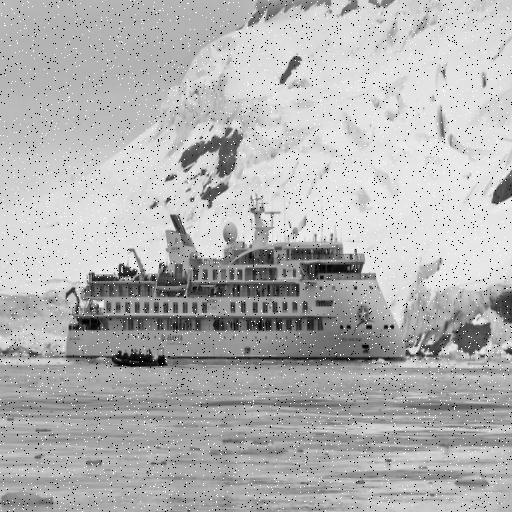cruises: (63, 190, 411, 367)
